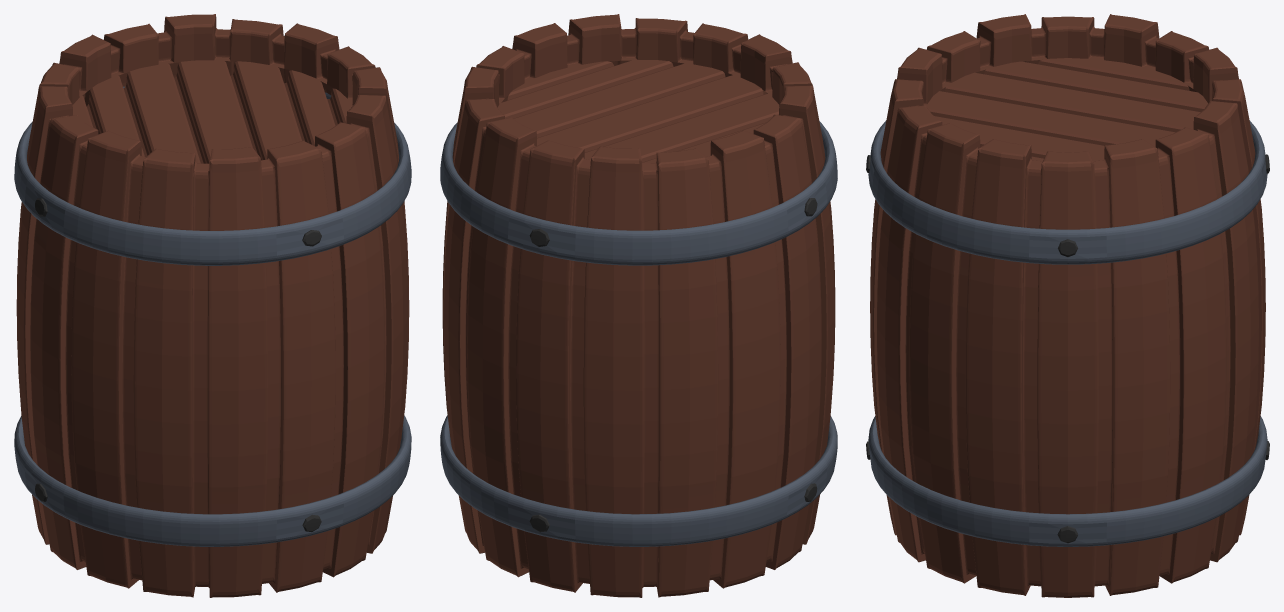
Rendered from barrel.fbx.
3 views of the same model, side by side, from view 1: azimuth 30°, elevation 25°; view 2: azimuth 150°, elevation 25°; view 3: azimuth 270°, elevation 25° (orthographic).
Parts seen in each view (by area): view 1: Barrel; view 2: Barrel; view 3: Barrel.
Boxes of the visible parts, box(x1,y1,x2,y2) form: Barrel: box(14, 14, 411, 597); Barrel: box(440, 14, 837, 597); Barrel: box(866, 14, 1269, 597).
Size of the model in its own units: 10.38 by 12.49 by 10.38.
